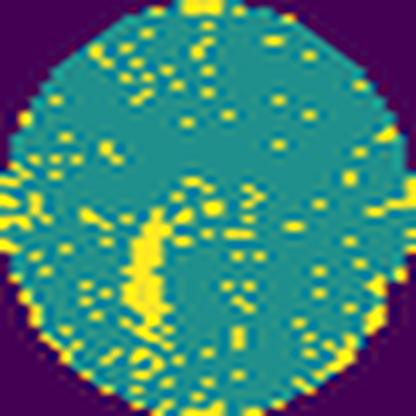Loc: (115, 201, 194, 347)
